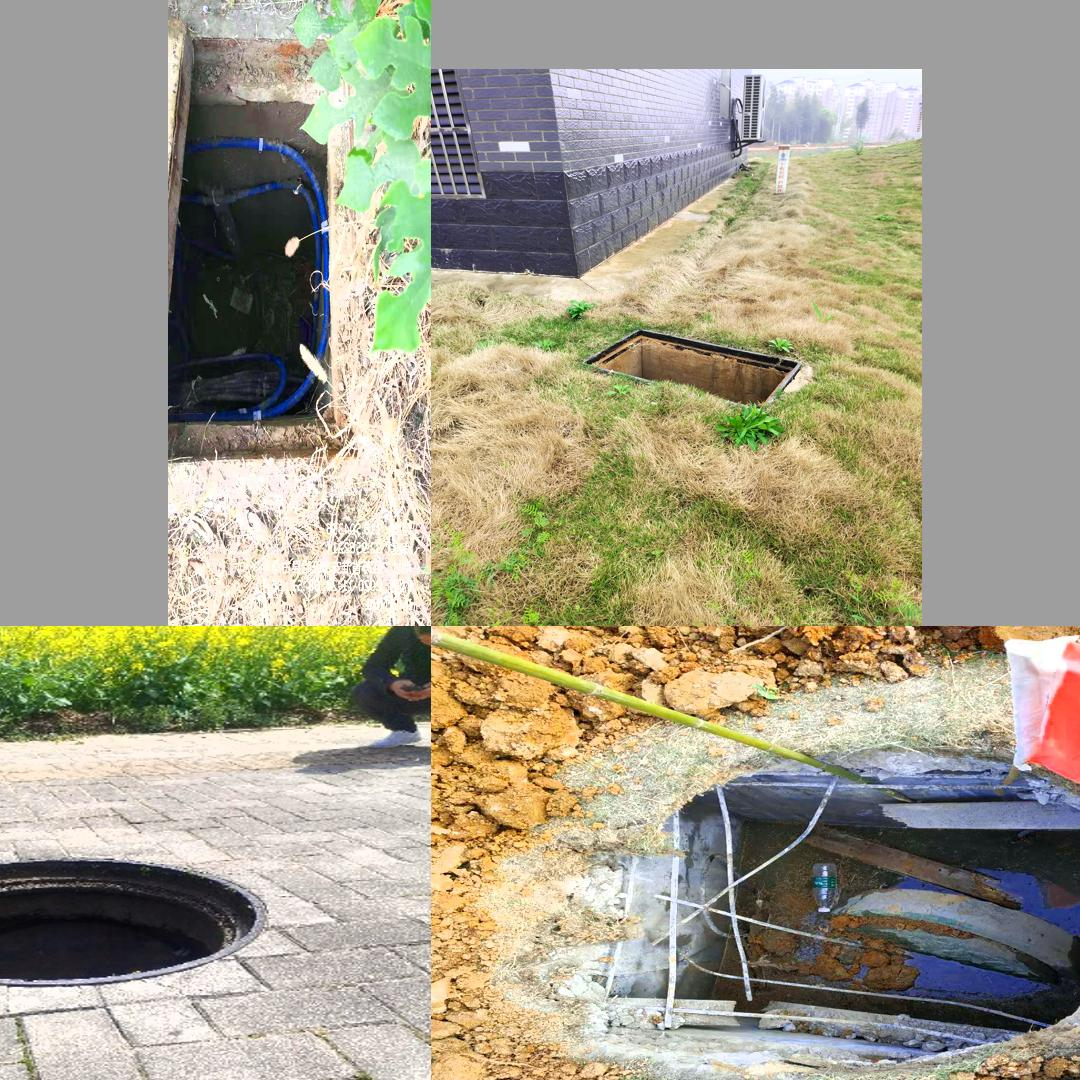lose: (486, 739, 1080, 1071), (168, 27, 350, 460), (0, 861, 270, 989), (576, 329, 801, 409)
